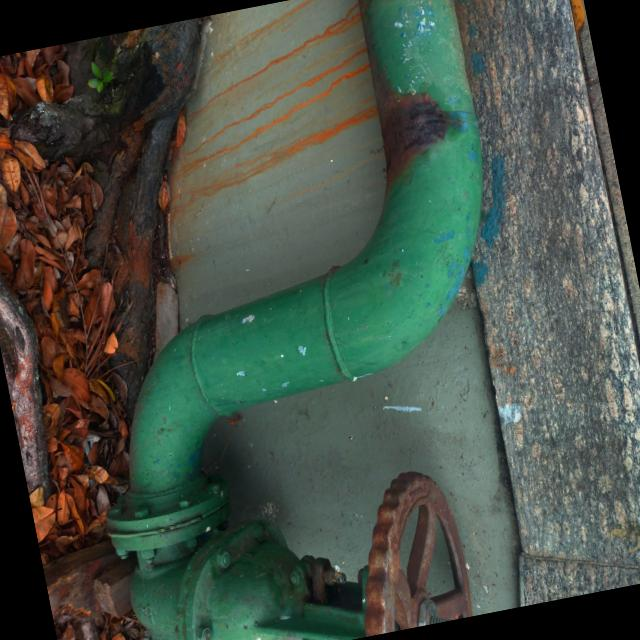gas: (126, 0, 476, 640)
